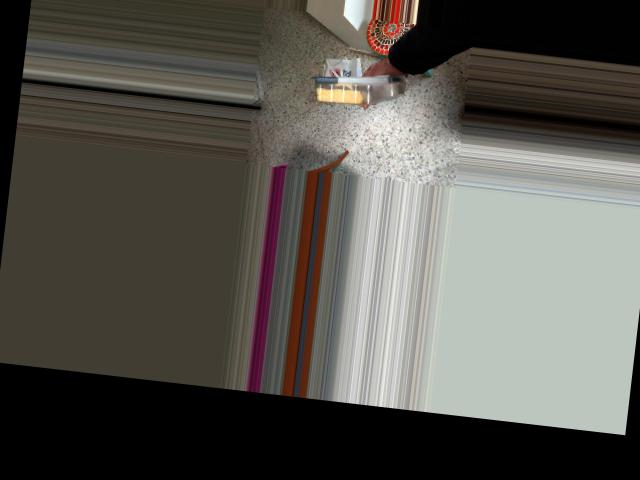cheese: (308, 18, 393, 134)
